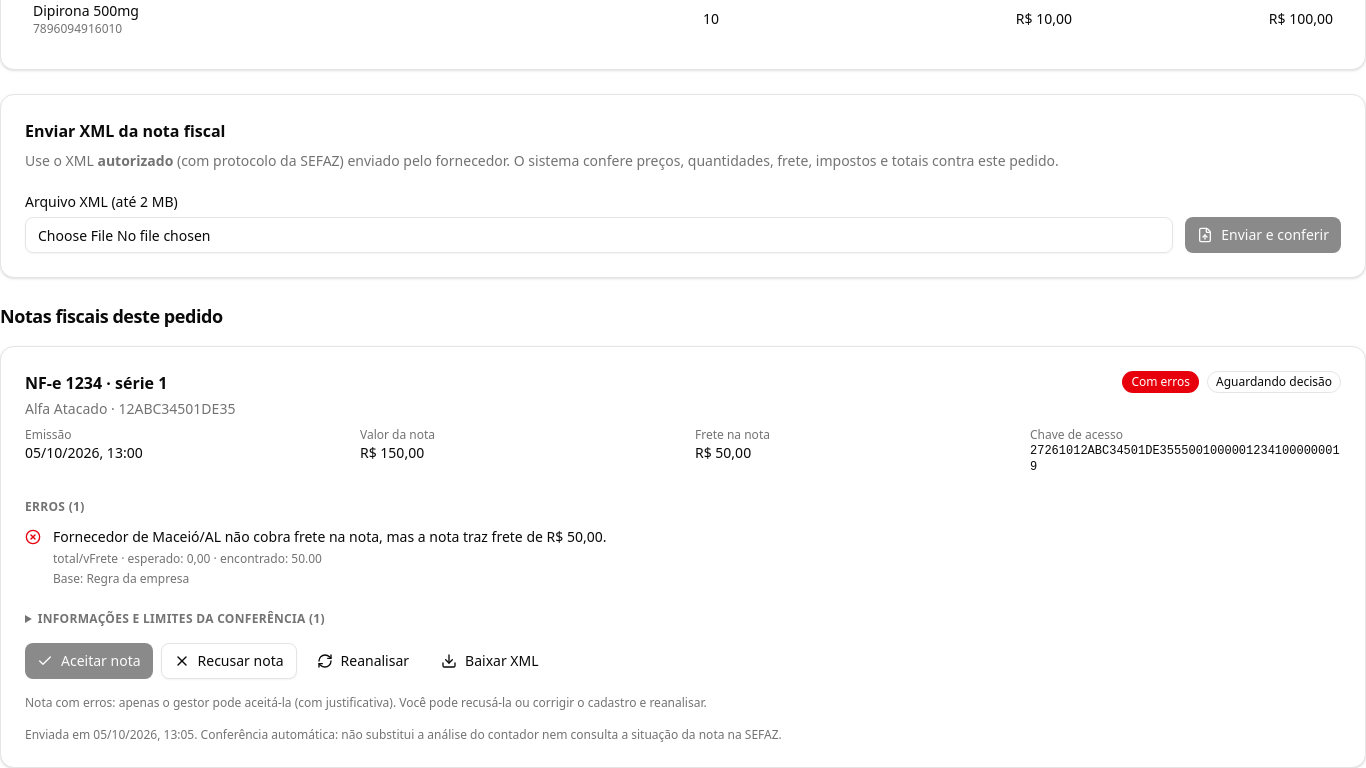
Detalhe do pedido (recebimento) › decisão sobre nota com erros › recusar exige o motivo
(page scrolled)
Click the button "Recusar nota" at (228, 660), box [160,642,296,678]
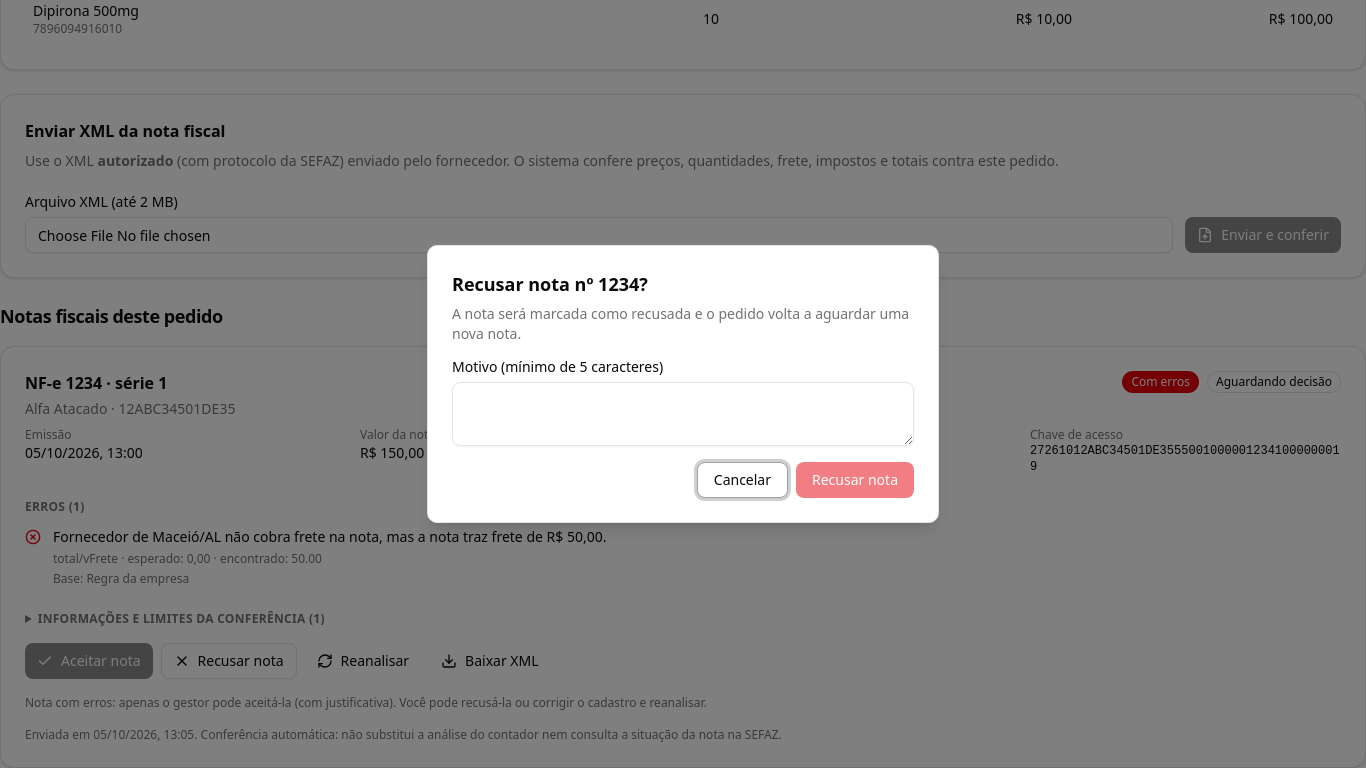
Expected: the button "Recusar nota" is disabled, [796,462,914,498]
